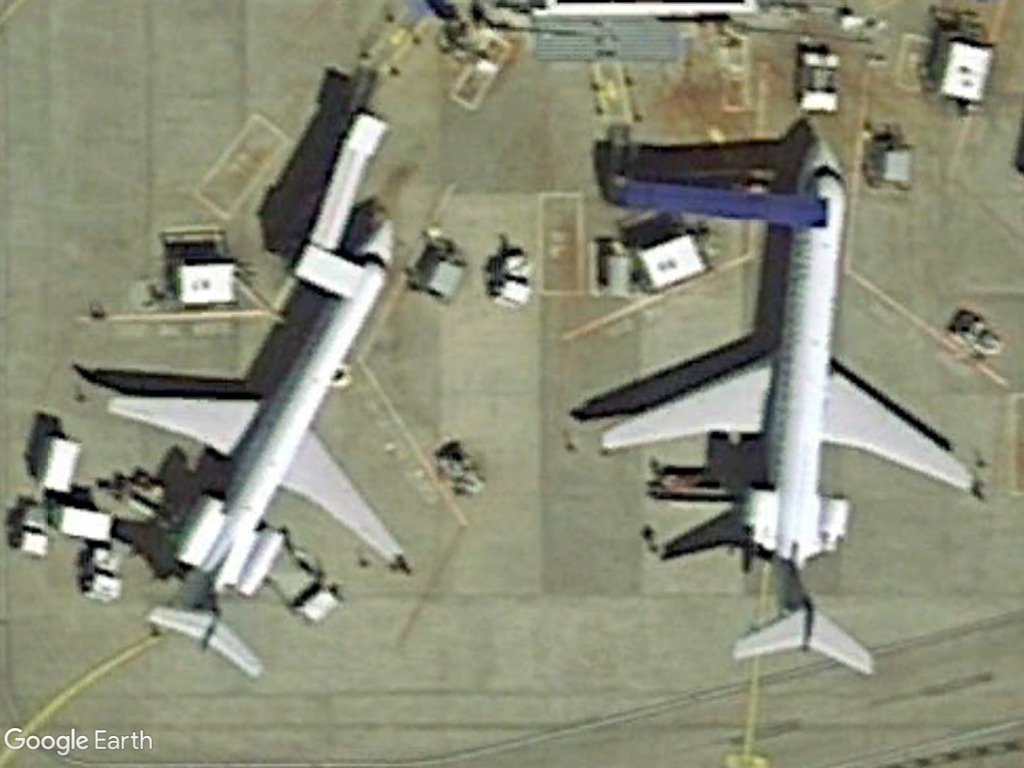chartered: (592, 126, 979, 686), (97, 215, 415, 681)
